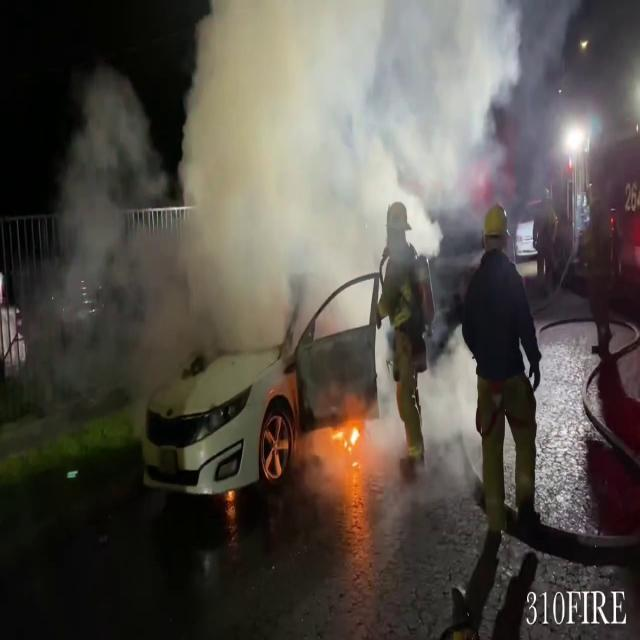Fire: (329, 406, 364, 464)
Smoke: (178, 0, 546, 345), (24, 66, 192, 458)
